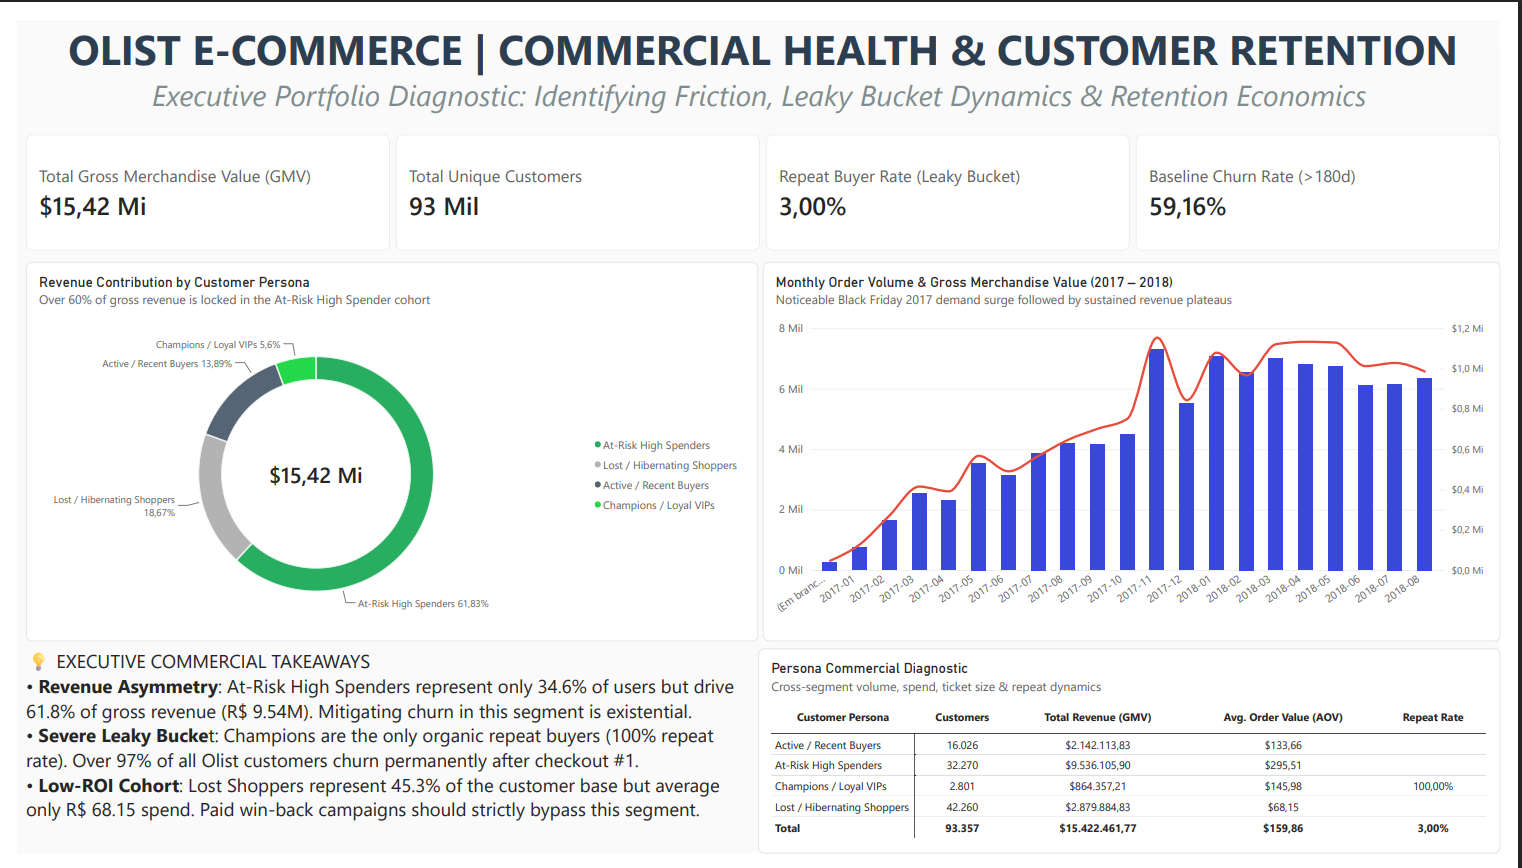

This screenshot's page, from the dashboard's own definition file:
{"tool":"powerbi","page":{"name":"Executive Overview","canvas":[1920,1080],"ordinal":0},"visuals":[{"type":"textbox","box":[10.9,0,1909.2,148.4],"z":0},{"type":"cardVisual","fields":{"Data":["_measures.total_gmv","_measures.total_customers","_measures.repeat_customer_rate","_measures.churn_rate"]},"box":[10.9,148.4,1910,150],"z":1000},{"type":"lineClusteredColumnComboChart","title":"Monthly Order Volume & Gross Merchandise Value (2017 – 2018)","fields":{"Category":["dim_date.year_month"],"Y":["_measures.total_orders"],"Y2":["_measures.total_gmv"]},"box":[964.5,313.1,955.5,492.2],"z":2000},{"type":"donutChart","title":"Revenue Contribution by Customer Persona","fields":{"Category":["dim_customers.persona"],"Y":["_measures.total_gmv"]},"box":[10.9,313.1,948.3,492.2],"z":3000},{"type":"pivotTable","title":"Persona Commercial Diagnostic","fields":{"Rows":["dim_customers.persona"],"Values":["_measures.total_customers","_measures.total_gmv","_measures.avg_order_value","_measures.repeat_customer_rate"]},"box":[959.1,814.3,960.9,266],"z":4000},{"type":"textbox","box":[11,814,948,266],"z":5000}]}

Visuals, with their boxes in screenshot pixels (x1, y1, x2, y2), scaled from the page's 1920x1080 canvas onto the 1522x868 screenshot:
textbox: [x1=9, y1=0, x2=1521, y2=119]
cardVisual - _measures.total_gmv x _measures.total_customers: [x1=9, y1=119, x2=1521, y2=240]
"Monthly Order Volume & Gross Merchandise Value (2017 – 2018)" lineClusteredColumnComboChart: [x1=765, y1=252, x2=1521, y2=647]
"Revenue Contribution by Customer Persona" donutChart: [x1=9, y1=252, x2=760, y2=647]
"Persona Commercial Diagnostic" pivotTable: [x1=760, y1=654, x2=1521, y2=867]
textbox: [x1=9, y1=654, x2=760, y2=867]
